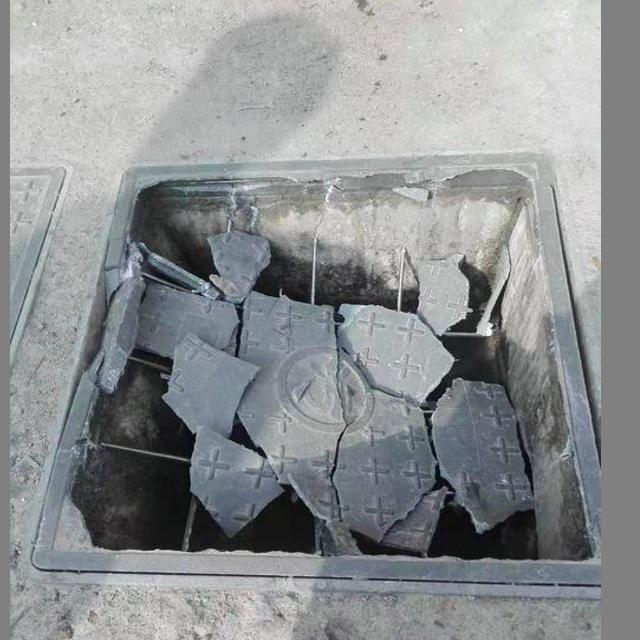broke: (56, 157, 585, 602)
